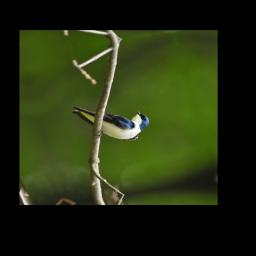Swallow: (69, 94, 155, 150)
